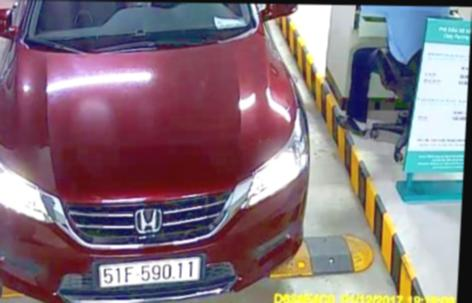License_Plate: (97, 256, 202, 289)
